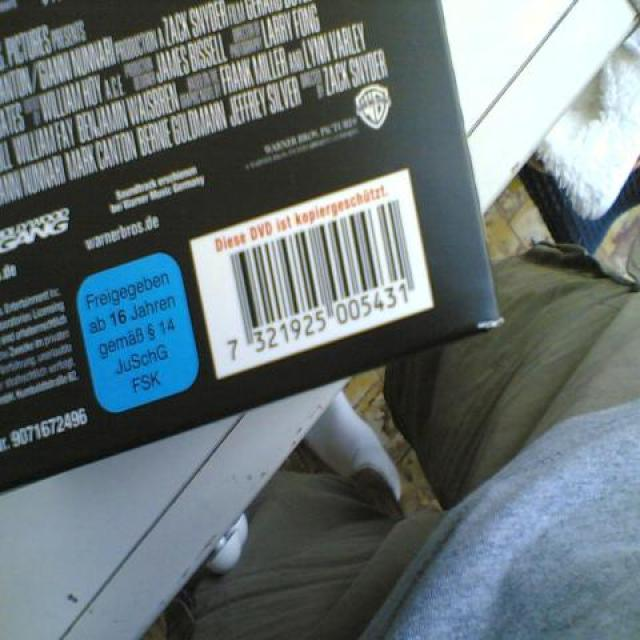Barcode: (189, 169, 435, 379)
